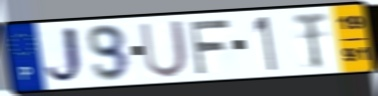1: (253, 14, 279, 73)
9: (85, 22, 134, 83)
F: (186, 17, 232, 76)
J: (42, 24, 88, 86)
T: (290, 10, 329, 71)
U: (137, 17, 191, 80)
